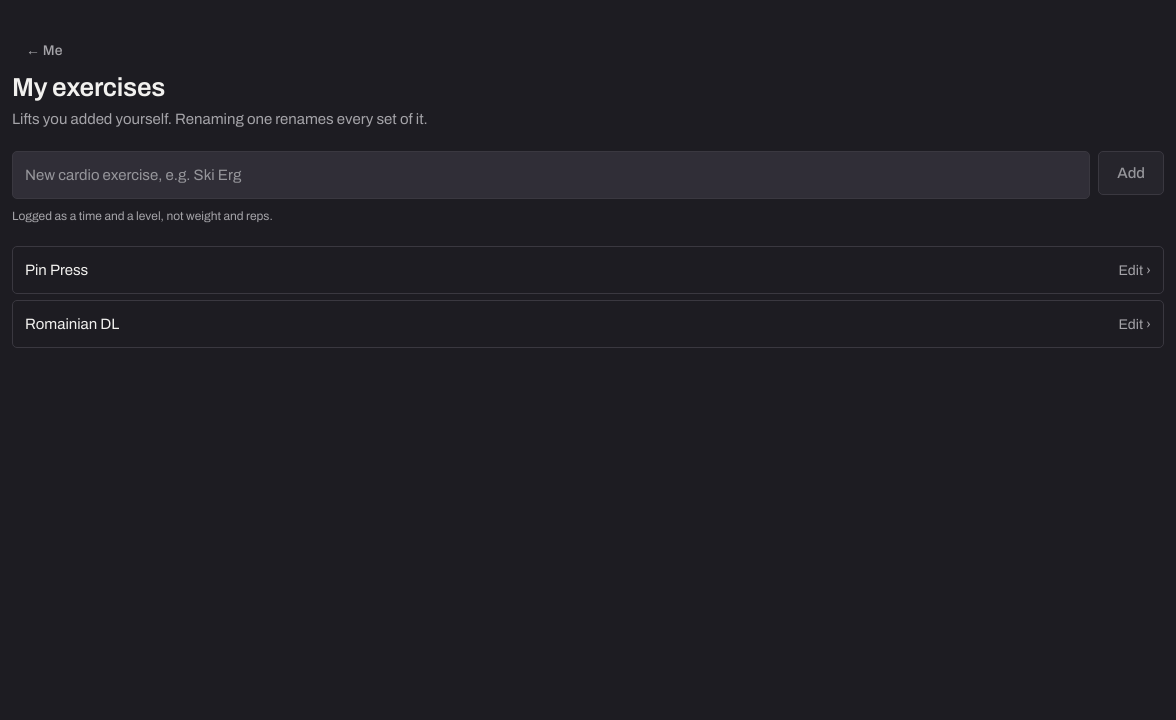
My exercises › keeps one that has been logged, and says why
Click the button with aria-label "Edit Pin Press": (57, 270) top-left (12, 246), bottom-right (1164, 294)
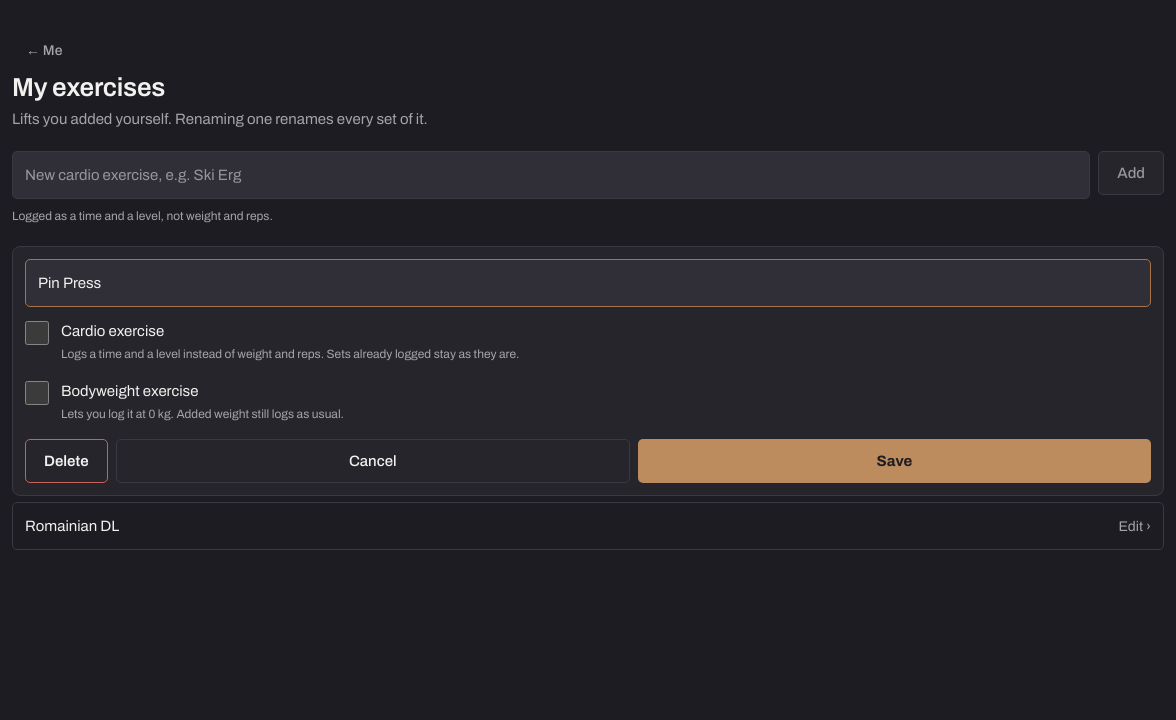
Click the button "Delete": (66, 461) top-left (25, 439), bottom-right (108, 483)
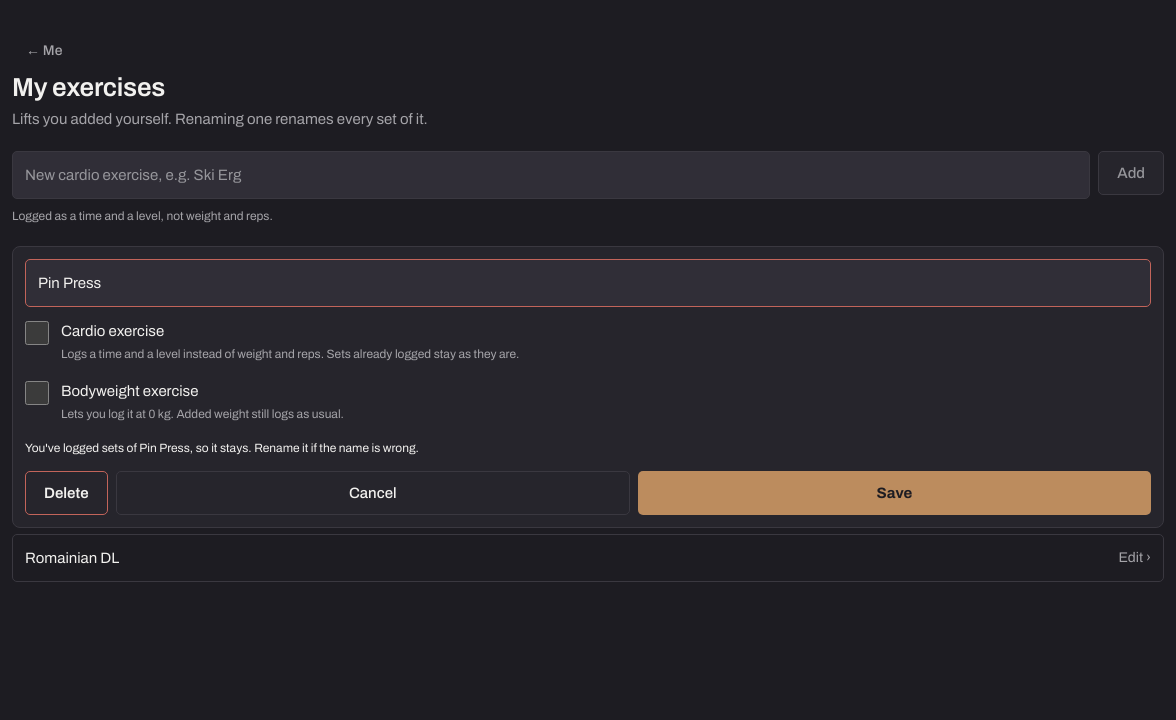
Expected: the message shows "You've logged sets of Pin Press", top-left (25, 441), bottom-right (419, 455)
